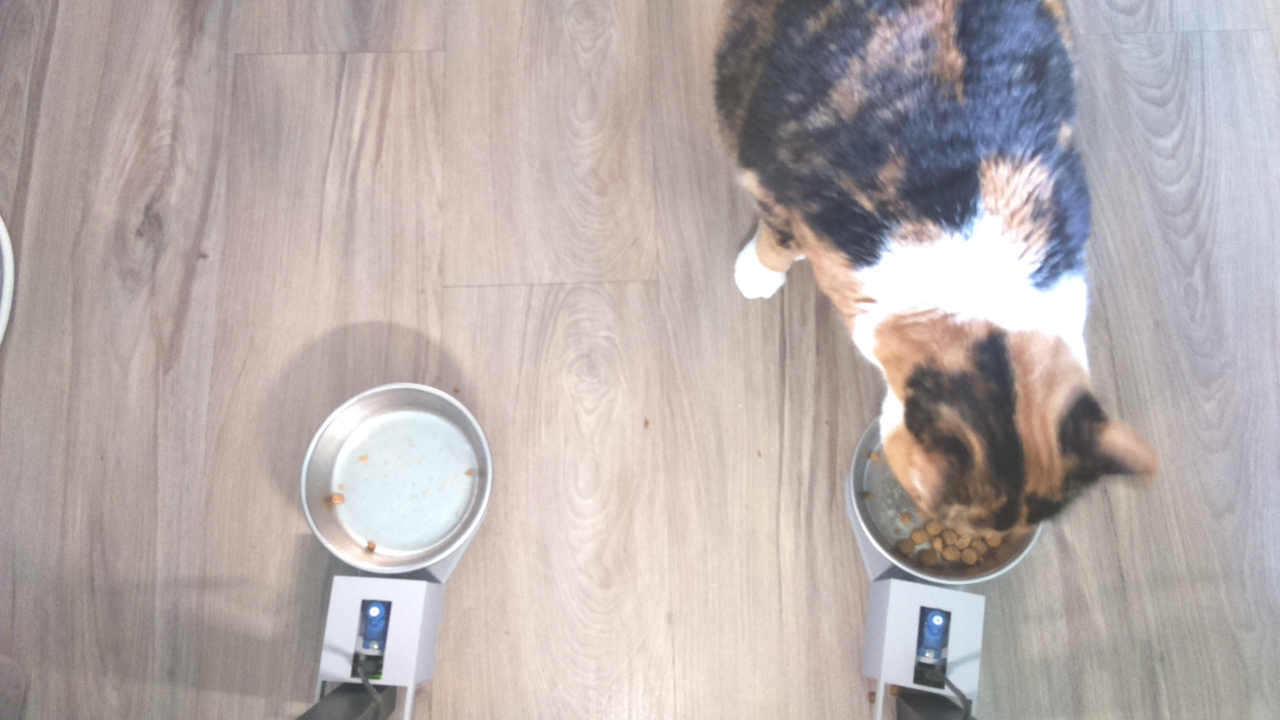bella_eating: (806, 273, 1152, 590)
open_bowl: (298, 376, 495, 577)
